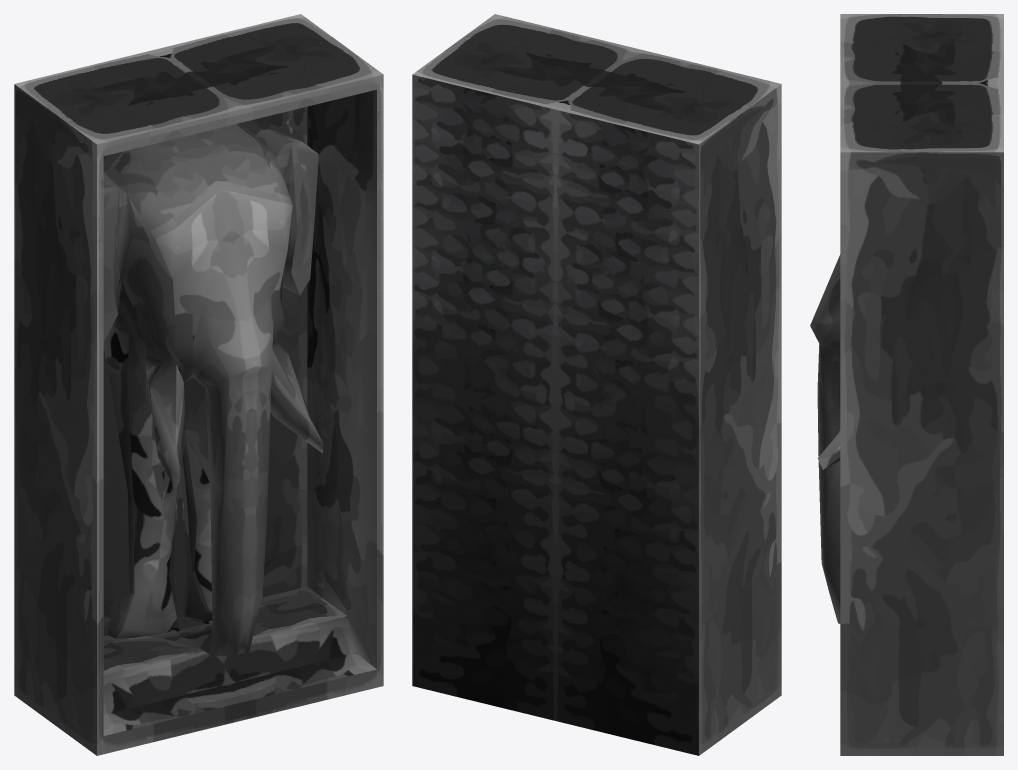
Rendered from VV-EthPawuraElement-1.fbx.
3 views of the same model, side by side, from view 1: azimuth 30°, elevation 25°; view 2: azimuth 150°, elevation 25°; view 3: azimuth 270°, elevation 25° (orthographic).
Visible parts, largest first — view 1: EthPawura-build; view 2: EthPawura-build; view 3: EthPawura-build.
Part boxes in pixels (x1,y1,x2,y2): EthPawura-build: [14, 14, 383, 755]; EthPawura-build: [412, 14, 781, 755]; EthPawura-build: [810, 14, 1003, 755].
Bounding box in the file's own units: 1 × 2.04 × 0.593.
